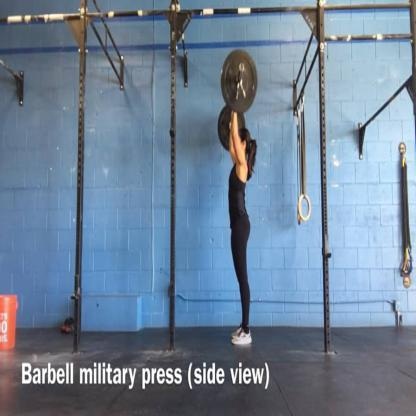Barbell: (233, 58, 249, 90)
